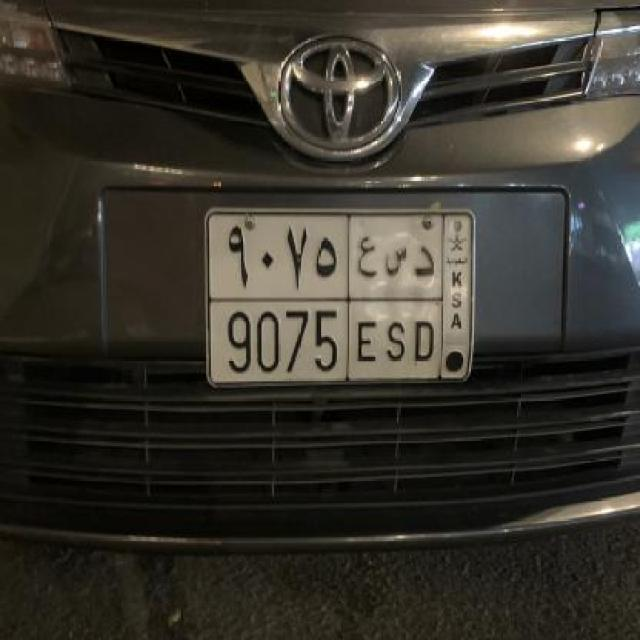license_plate: (203, 204, 479, 396)
